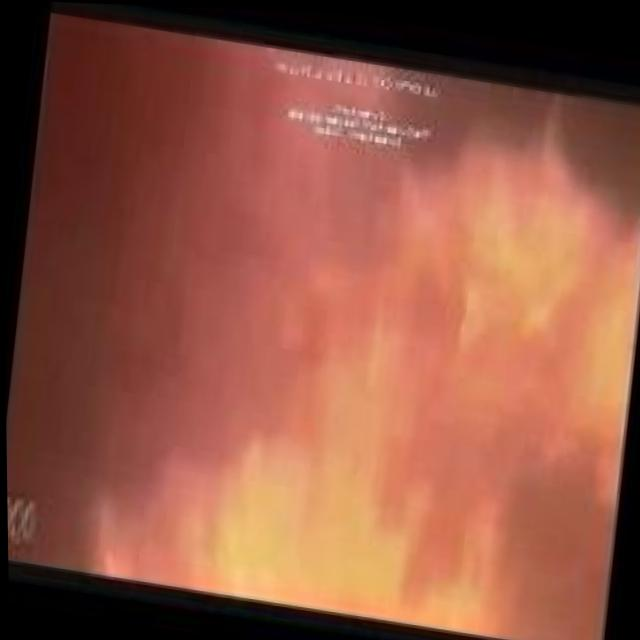fire: (134, 81, 640, 640)
